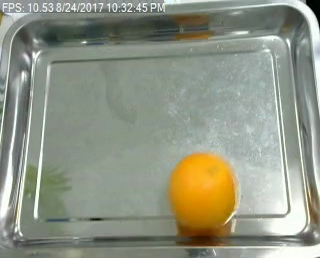Orange: (168, 152, 238, 232)
